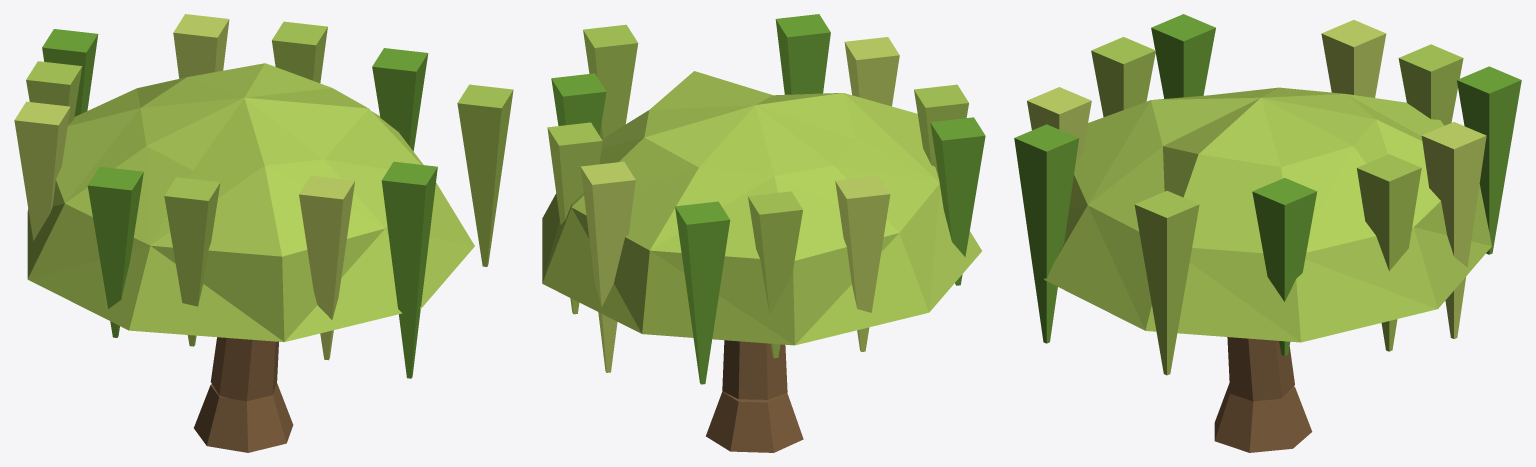
The model's file is tree_willow_3.glb.
3 views of the same model, side by side, from view 1: azimuth 30°, elevation 25°; view 2: azimuth 150°, elevation 25°; view 3: azimuth 270°, elevation 25° (orthographic).
Parts seen in each view (by area): view 1: tree_willow_3; view 2: tree_willow_3; view 3: tree_willow_3.
Boxes of the visible parts, bbox=[...] form: tree_willow_3: bbox=[14, 14, 513, 452]; tree_willow_3: bbox=[542, 14, 985, 452]; tree_willow_3: bbox=[1014, 14, 1521, 452].
Size of what is drawn, in the model's own units: 5.92 by 4.5 by 6.2.
